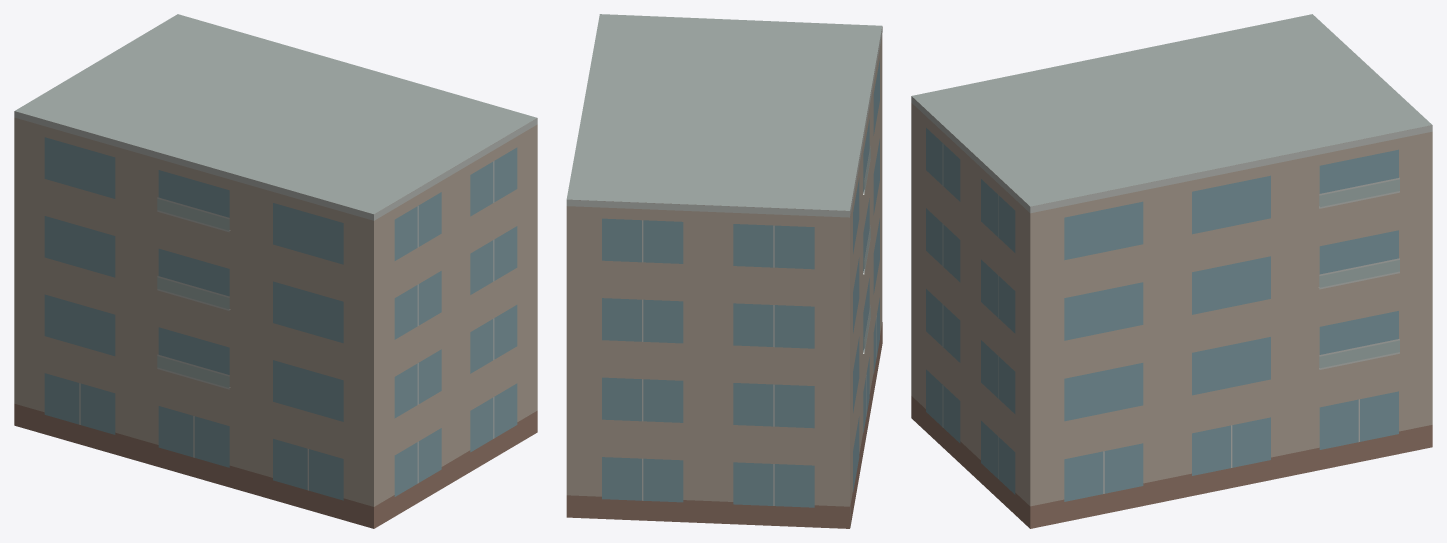
File: survey-upis-32740901.glb
The picture shows the model from 3 angles, left to right: view 1: azimuth 30°, elevation 25°; view 2: azimuth 150°, elevation 25°; view 3: azimuth 270°, elevation 25°; orthographic projection. The views are drawn at different scales.
Parts seen in each view (by area): view 1: survey-upis-32740901.tmp; view 2: survey-upis-32740901.tmp; view 3: survey-upis-32740901.tmp.
Part boxes in pixels (x1,y1,x2,y2): survey-upis-32740901.tmp: (14,14,537,528); survey-upis-32740901.tmp: (566,14,882,528); survey-upis-32740901.tmp: (911,14,1432,528).
Size of the model in its own units: 15.14 by 11.8 by 17.3.
